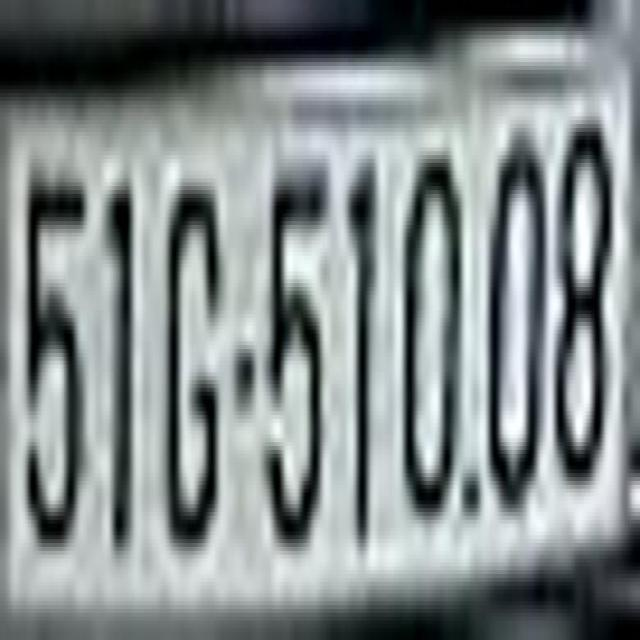0: (485, 120, 546, 516), (404, 136, 461, 539)
1: (101, 163, 143, 574), (346, 148, 380, 566)
5: (26, 140, 88, 574), (269, 152, 330, 562)
8: (552, 116, 611, 481)
G: (163, 128, 222, 559)
